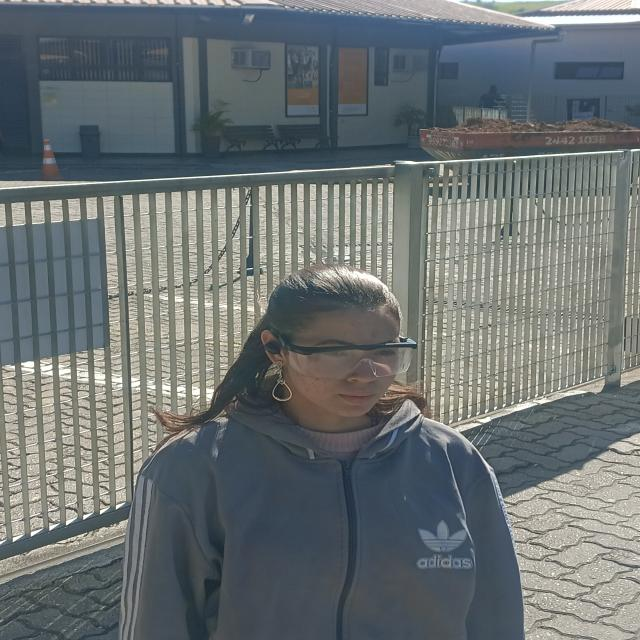oculos-epi: (283, 338, 417, 378)
